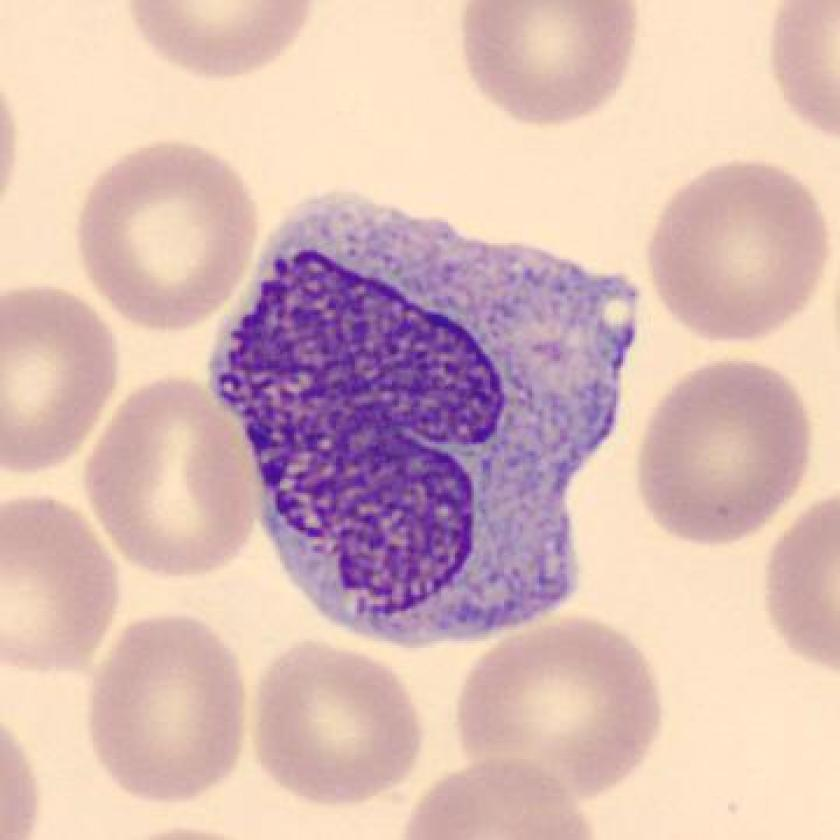monocyte: (192, 168, 666, 670)
